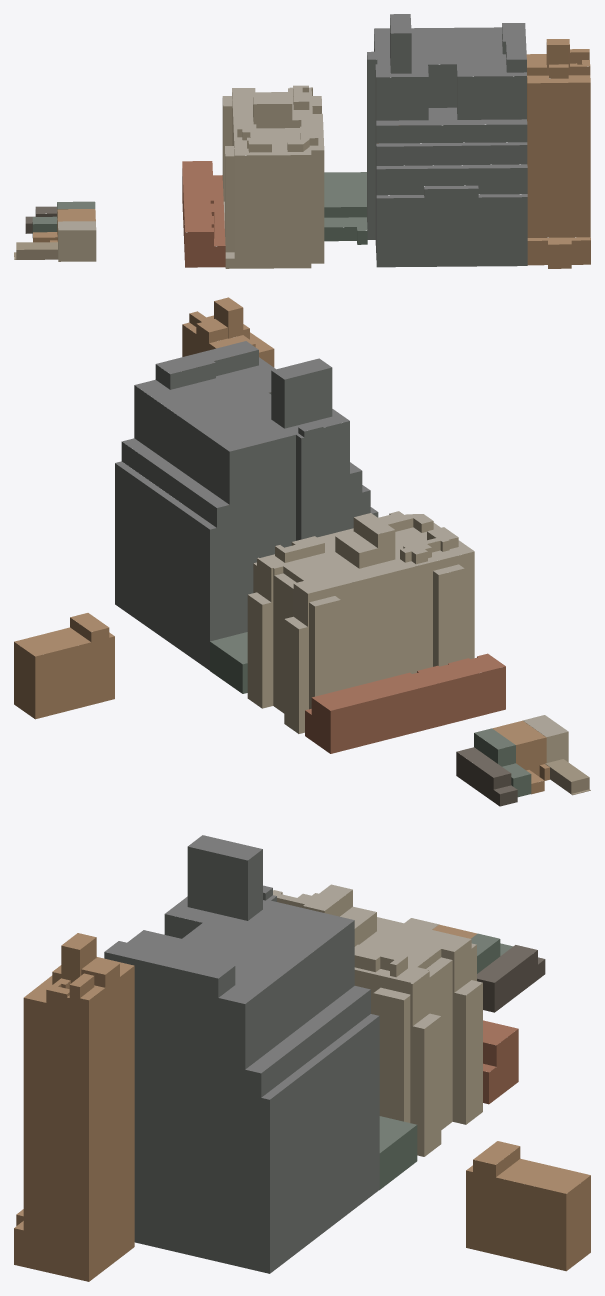
The model's file is tile-0_-13.glb.
The picture shows the model from 3 angles, top to bottom: view 1: azimuth 30°, elevation 25°; view 2: azimuth 150°, elevation 25°; view 3: azimuth 270°, elevation 25°; orthographic projection. The views are drawn at different scales.
Visible parts, largest first — view 1: wall, roof; view 2: wall, roof; view 3: wall, roof.
Part boxes in pixels (x1,y1,x2,y2): wall: (14,18,590,268); roof: (14,14,590,259); wall: (14,301,590,806); roof: (14,297,590,794); wall: (14,846,590,1281); roof: (14,835,590,1230).
Bounding box in the file's own units: 186 × 86.6 × 136.
